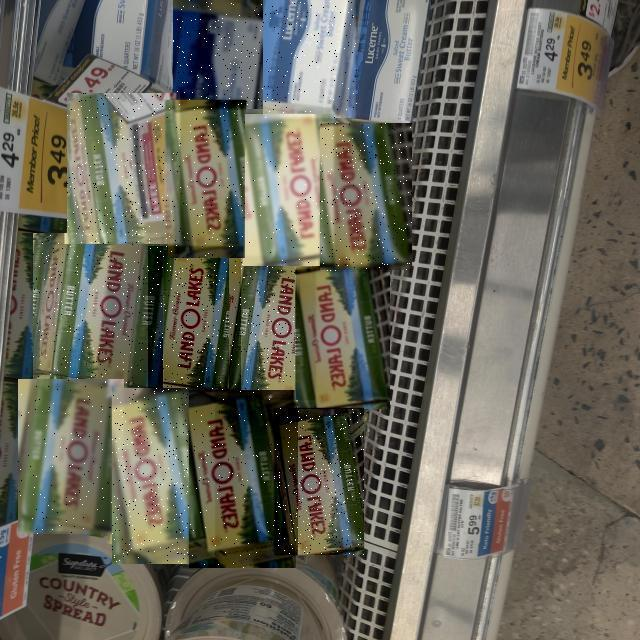Butter: (34, 233, 164, 388), (190, 391, 298, 569), (112, 388, 218, 564), (68, 93, 180, 244), (19, 380, 125, 536), (150, 246, 244, 392), (320, 124, 412, 272), (245, 114, 334, 266), (299, 267, 391, 409), (276, 408, 364, 555), (230, 256, 316, 400), (169, 100, 247, 258), (264, 0, 358, 118), (173, 0, 263, 109)
